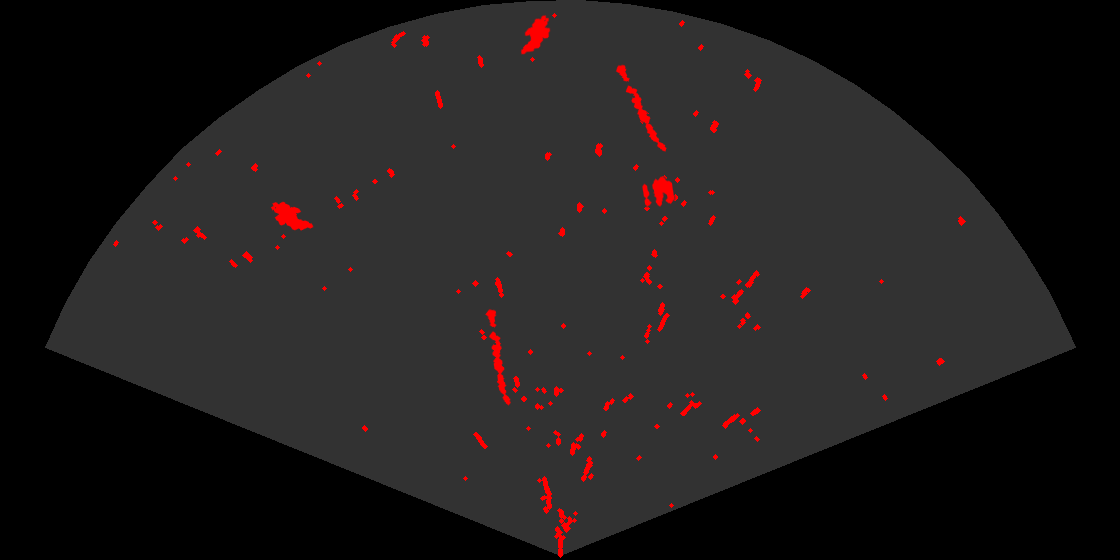AUV: (269, 200, 315, 232), (519, 13, 552, 56)
ball: (641, 175, 676, 208)
chain: (615, 63, 668, 153), (484, 307, 512, 407)
